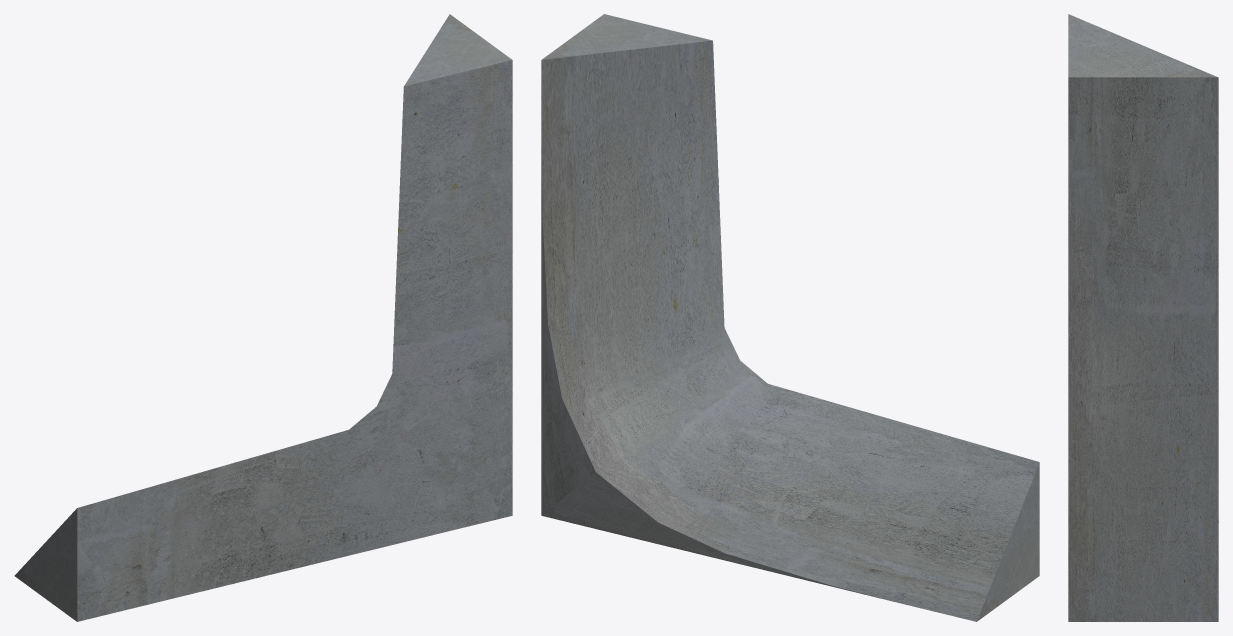
File: module_C.fbx
The picture shows the model from 3 angles, left to right: view 1: azimuth 30°, elevation 25°; view 2: azimuth 150°, elevation 25°; view 3: azimuth 270°, elevation 25°; orthographic projection. The views are drawn at different scales.
Parts seen in each view (by area): view 1: 2A; view 2: 2A; view 3: 2A.
Part boxes in pixels (left/top/right/bottom): 2A: left=14, top=14, right=512, bottom=621; 2A: left=541, top=14, right=1039, bottom=621; 2A: left=1068, top=14, right=1218, bottom=621.
Size of the model in its own units: 1000 by 250 by 1000.
Materials: 1 (1 with a texture image).
